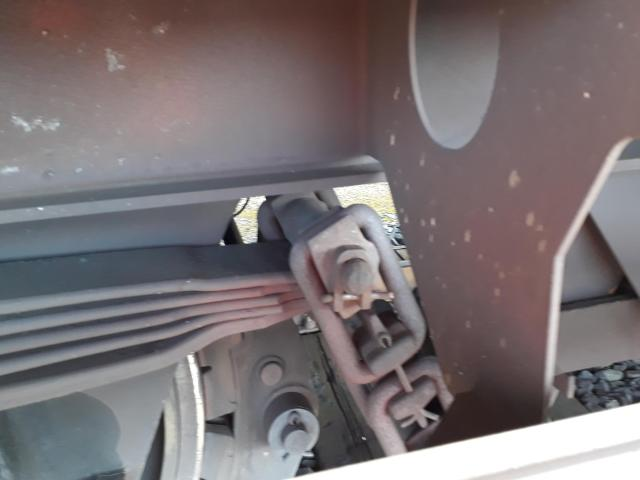blattfederww: (1, 231, 278, 387)
